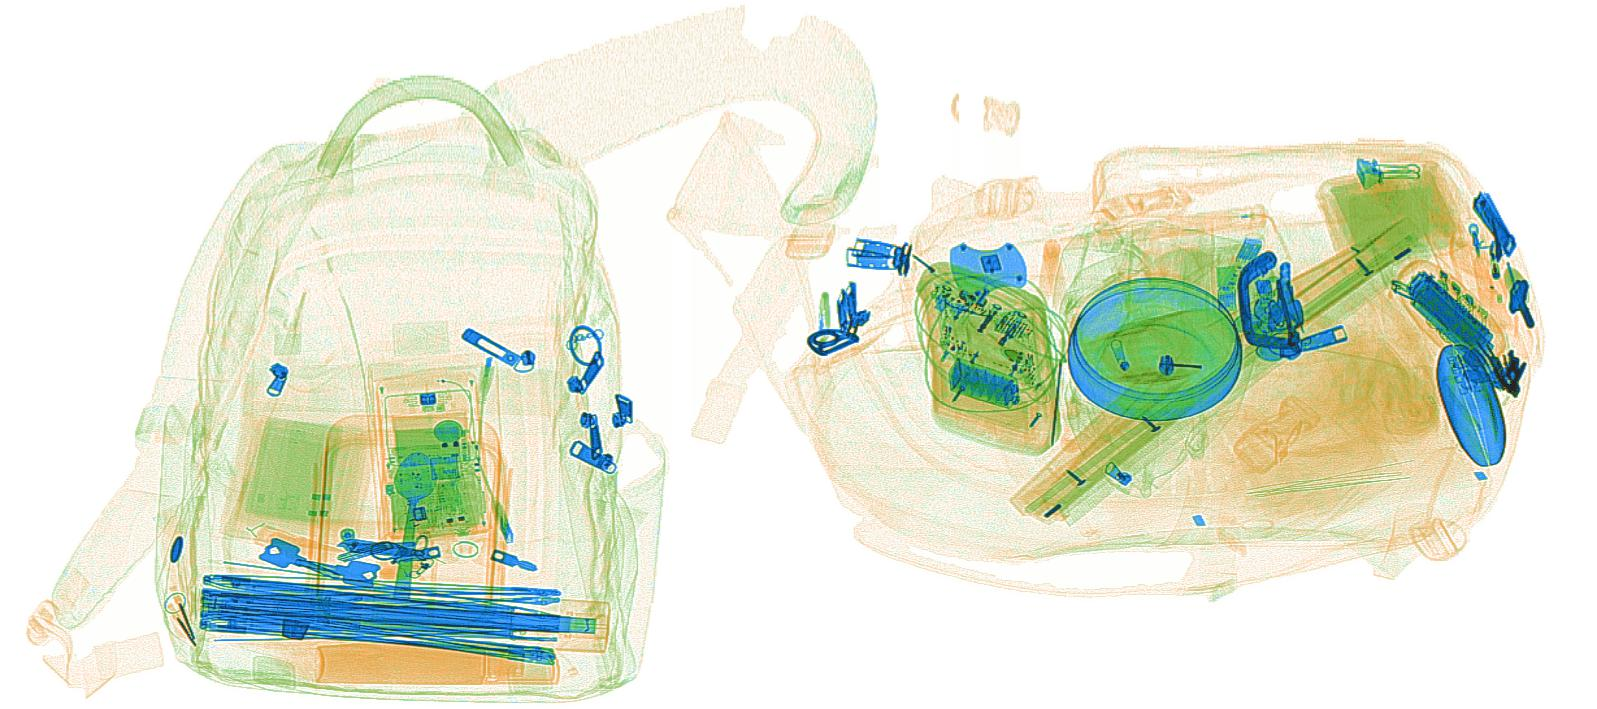USBFlashDisk: (1213, 263, 1238, 311)
battery: (1405, 270, 1493, 356), (945, 360, 1018, 408)
